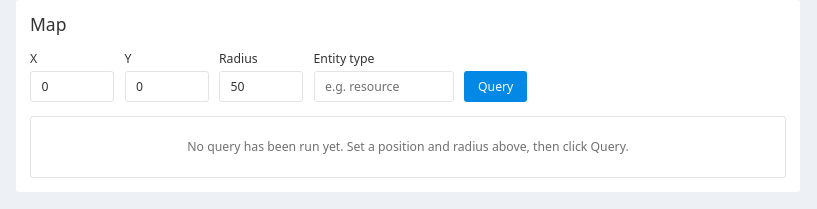
MapPage -- three empty states, all different (brief rule 4) › shows "the area is empty" when the instance is running but the query returns zero entities
This screenshot has width=817, height=209.
Click the button with test id "query-button". click: (496, 87)
box: [464,71,527,102]
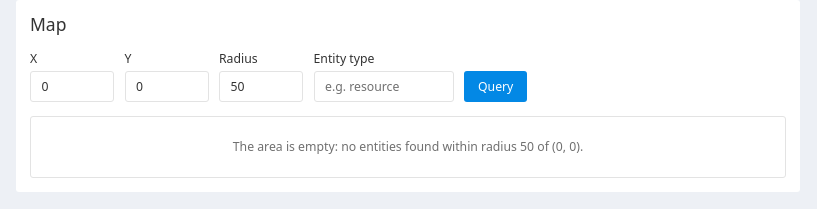
Expected: the text with test id "empty-result-state" is shown, [30,116,786,178]
